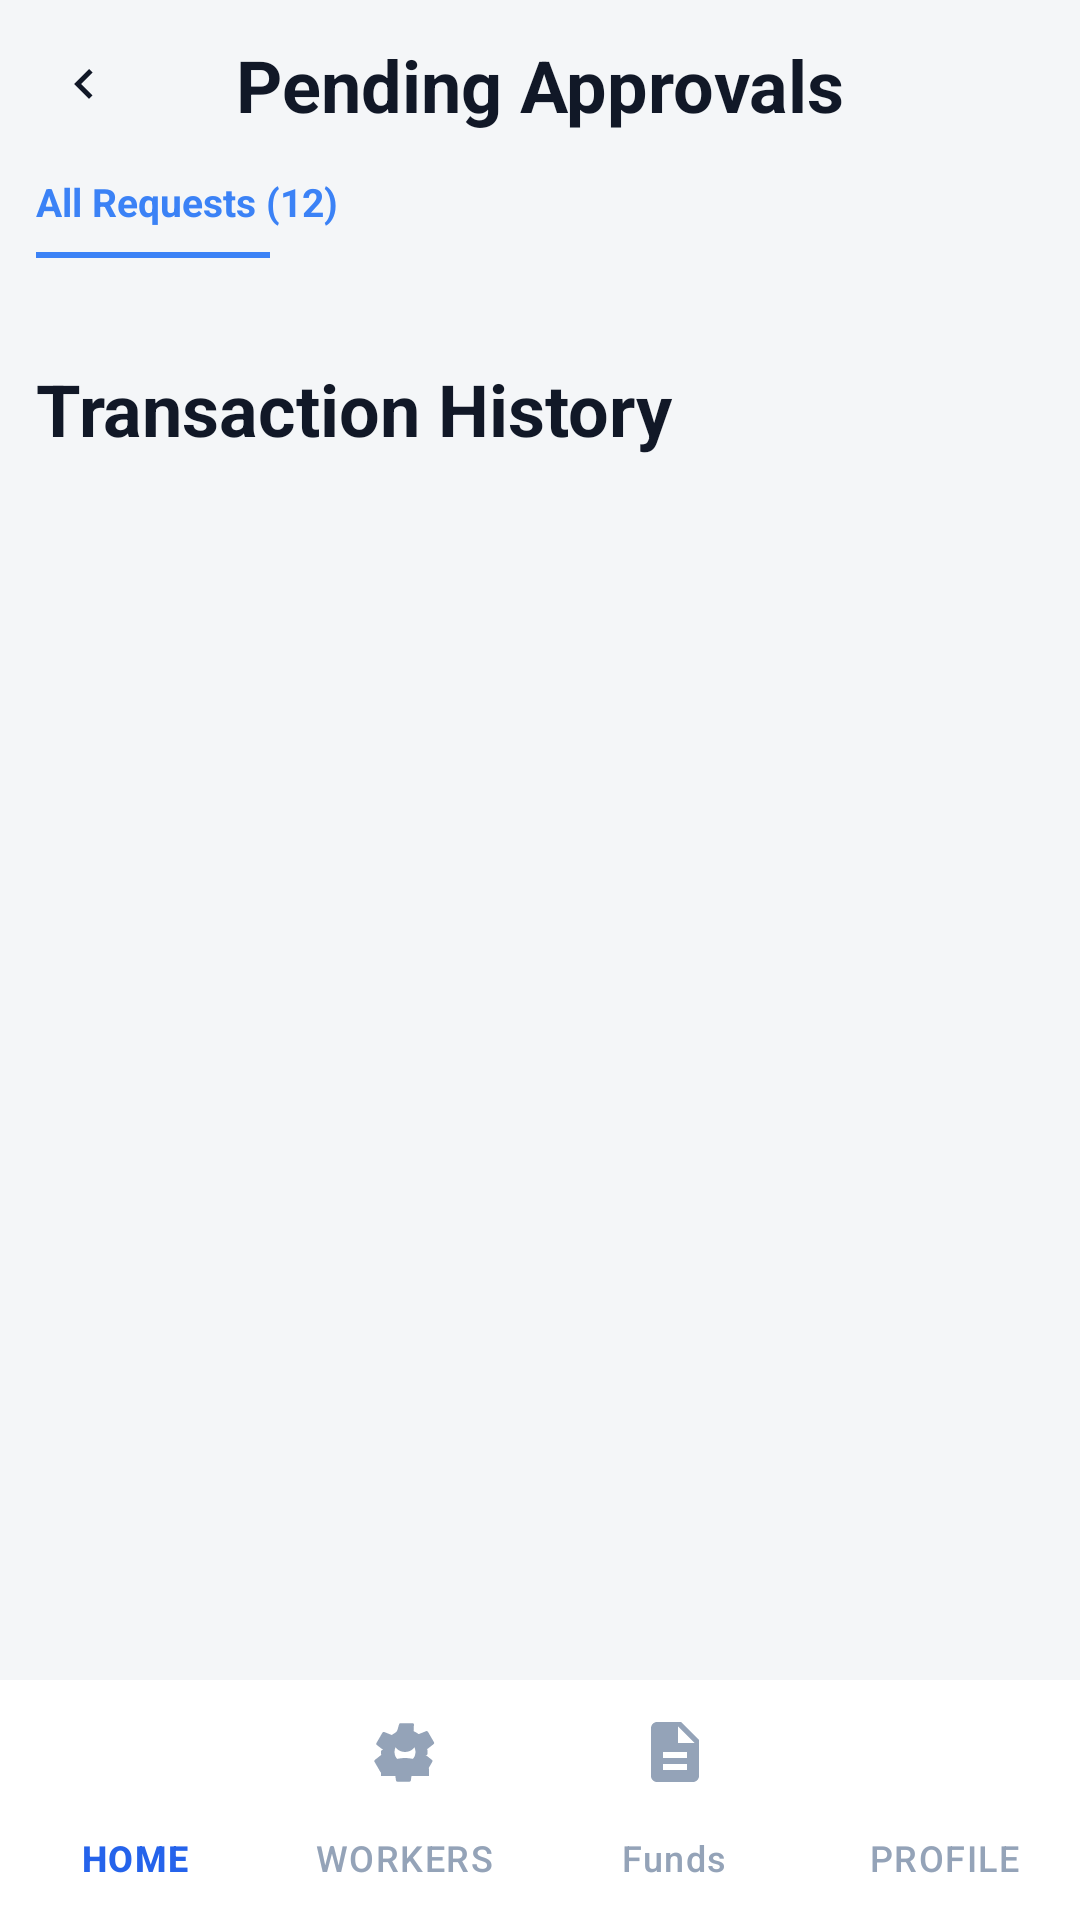

Named icons in this screenshot (1080 × 1920) and their centers, (x,y):
Back: (83,84)
